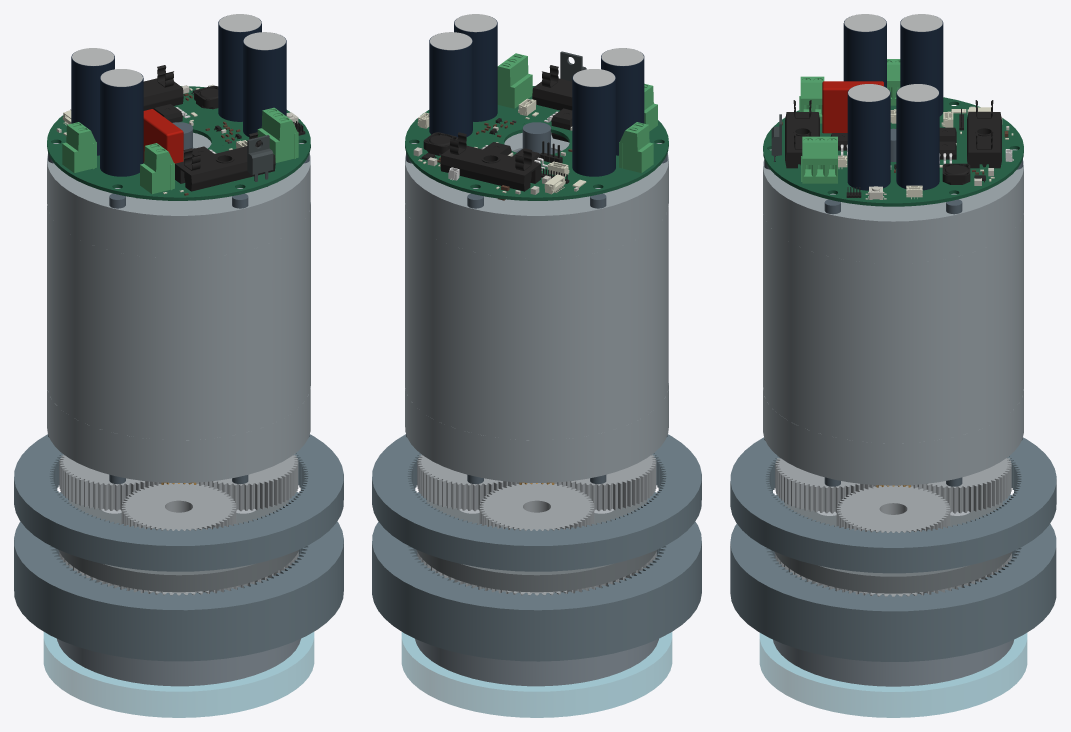
File: ground-prototype.glb
3 views of the same model, side by side, from view 1: azimuth 30°, elevation 25°; view 2: azimuth 150°, elevation 25°; view 3: azimuth 270°, elevation 25° (orthographic).
Parts seen in each view (by area): view 1: Motor - ground prototype study/HousingBarrel - blind hole de, Two-stage planetary gearbox - clocked rings/Stage 2 ring, Two-stage planetary gearbox - clocked rings/Stage 1 ring, Motor - ground prototype study/EndCap_right, Motor - ground prototype study/EndCap_left, Bota BTS-T300-CAT - packaging envelope, Motor controller PCB/PCB substrate, Two-stage planetary gearbox - clocked rings/Output flange, Two-stage planetary gearbox - clocked rings/Stage 2 carrier , Two-stage planetary gearbox - clocked rings/Stage 1 planet 2, Motor controller PCB/C2/Maximum_can_envelope/Maximum_can_env, Motor controller PCB/C4/Maximum_can_envelope/Maximum_can_env (+15 smaller); view 2: Motor - ground prototype study/HousingBarrel - blind hole de, Two-stage planetary gearbox - clocked rings/Stage 2 ring, Two-stage planetary gearbox - clocked rings/Stage 1 ring, Motor - ground prototype study/EndCap_right, Motor - ground prototype study/EndCap_left, Bota BTS-T300-CAT - packaging envelope, Motor controller PCB/PCB substrate, Two-stage planetary gearbox - clocked rings/Output flange, Two-stage planetary gearbox - clocked rings/Stage 2 carrier , Two-stage planetary gearbox - clocked rings/Stage 1 planet 3, Motor controller PCB/C1/Maximum_can_envelope/Maximum_can_env, Motor controller PCB/C3/Maximum_can_envelope/Maximum_can_env (+16 smaller); view 3: Motor - ground prototype study/HousingBarrel - blind hole de, Two-stage planetary gearbox - clocked rings/Stage 2 ring, Two-stage planetary gearbox - clocked rings/Stage 1 ring, Motor - ground prototype study/EndCap_right, Motor - ground prototype study/EndCap_left, Bota BTS-T300-CAT - packaging envelope, Motor controller PCB/PCB substrate, Two-stage planetary gearbox - clocked rings/Output flange, Two-stage planetary gearbox - clocked rings/Stage 2 carrier , Two-stage planetary gearbox - clocked rings/Stage 1 planet 1, Motor controller PCB/C4/Maximum_can_envelope/Maximum_can_env, Motor controller PCB/C3/Maximum_can_envelope/Maximum_can_env (+15 smaller).
Part boxes in pixels (<box>): Motor - ground prototype study/HousingBarrel - blind hole de: <box>47,202,310,440</box>; Two-stage planetary gearbox - clocked rings/Stage 2 ring: <box>14,492,343,661</box>; Two-stage planetary gearbox - clocked rings/Stage 1 ring: <box>14,434,343,571</box>; Motor - ground prototype study/EndCap_right: <box>47,132,310,258</box>; Motor - ground prototype study/EndCap_left: <box>47,388,310,482</box>; Bota BTS-T300-CAT - packaging envelope: <box>43,632,314,717</box>; Motor controller PCB/PCB substrate: <box>47,86,310,200</box>; Two-stage planetary gearbox - clocked rings/Output flange: <box>57,638,300,686</box>; Two-stage planetary gearbox - clocked rings/Stage 2 carrier : <box>58,500,299,592</box>; Two-stage planetary gearbox - clocked rings/Stage 1 planet 2: <box>121,483,236,530</box>; Motor controller PCB/C2/Maximum_can_envelope/Maximum_can_env: <box>100,73,143,176</box>; Motor controller PCB/C4/Maximum_can_envelope/Maximum_can_env: <box>243,35,286,136</box>; Motor - ground prototype study/HousingBarrel - blind hole de: <box>405,203,668,440</box>; Two-stage planetary gearbox - clocked rings/Stage 2 ring: <box>372,492,701,661</box>; Two-stage planetary gearbox - clocked rings/Stage 1 ring: <box>372,434,701,571</box>; Motor - ground prototype study/EndCap_right: <box>405,133,668,258</box>; Motor - ground prototype study/EndCap_left: <box>405,383,668,482</box>; Bota BTS-T300-CAT - packaging envelope: <box>401,632,672,717</box>; Motor controller PCB/PCB substrate: <box>405,86,668,200</box>; Two-stage planetary gearbox - clocked rings/Output flange: <box>415,639,658,686</box>; Two-stage planetary gearbox - clocked rings/Stage 2 carrier : <box>416,500,657,592</box>; Two-stage planetary gearbox - clocked rings/Stage 1 planet 3: <box>479,483,594,530</box>; Motor controller PCB/C1/Maximum_can_envelope/Maximum_can_env: <box>572,73,615,176</box>; Motor controller PCB/C3/Maximum_can_envelope/Maximum_can_env: <box>429,35,472,137</box>; Motor - ground prototype study/HousingBarrel - blind hole de: <box>763,211,1023,443</box>; Two-stage planetary gearbox - clocked rings/Stage 2 ring: <box>730,494,1056,661</box>; Two-stage planetary gearbox - clocked rings/Stage 1 ring: <box>730,437,1056,573</box>; Motor - ground prototype study/EndCap_right: <box>763,149,1023,263</box>; Motor - ground prototype study/EndCap_left: <box>763,388,1023,485</box>; Bota BTS-T300-CAT - packaging envelope: <box>759,633,1027,717</box>; Motor controller PCB/PCB substrate: <box>763,97,1023,206</box>; Two-stage planetary gearbox - clocked rings/Output flange: <box>773,639,1013,686</box>; Two-stage planetary gearbox - clocked rings/Stage 2 carrier : <box>774,502,1012,593</box>; Two-stage planetary gearbox - clocked rings/Stage 1 planet 1: <box>836,485,950,533</box>; Motor controller PCB/C4/Maximum_can_envelope/Maximum_can_env: <box>847,87,890,190</box>; Motor controller PCB/C3/Maximum_can_envelope/Maximum_can_env: <box>896,87,939,190</box>.
Bounding box in the file's own units: 0.14 × 0.2859 × 0.14.
